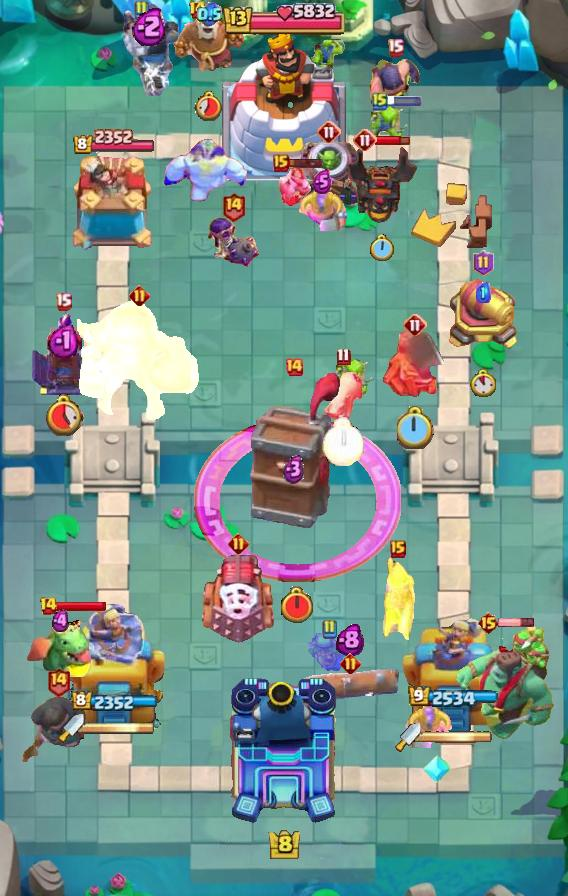archer-evolution: (345, 143, 419, 225)
bar: (59, 595, 169, 731), (402, 615, 507, 731)
bomb-tower: (379, 555, 417, 653)
clock: (221, 0, 347, 40)
dart-goblin: (247, 371, 341, 531)
electro-giant: (77, 300, 201, 424)
electro-spirit: (132, 6, 168, 46), (48, 322, 78, 358), (336, 624, 364, 657), (283, 454, 305, 484), (197, 1, 222, 27), (312, 169, 332, 195), (51, 609, 69, 633), (477, 281, 492, 303)
electro-wizard: (26, 607, 94, 677)
elixir: (322, 418, 364, 467), (43, 393, 84, 436), (397, 407, 434, 450), (279, 586, 315, 625), (194, 91, 224, 122), (470, 369, 496, 397), (369, 234, 394, 263)
elixir-collector: (170, 0, 248, 76)
emote: (55, 600, 107, 612), (287, 157, 324, 169), (375, 134, 410, 146), (498, 616, 535, 627), (385, 96, 423, 106)
giant: (321, 368, 365, 424)
giant-snowball: (308, 633, 350, 673)
goblin-ball: (205, 214, 261, 270)
goblin-cage: (297, 138, 361, 208)
goblin-giant: (403, 705, 453, 748), (297, 189, 346, 231)
golem: (199, 551, 277, 645)
ice-spirit-evolution-symbol: (29, 311, 97, 397)
inferno-dragon: (120, 0, 180, 96)
king-tower: (222, 31, 346, 181), (228, 676, 340, 826)
king-tower-bar: (421, 730, 493, 744), (84, 721, 154, 735)
knight-evolution: (194, 418, 402, 582)
lava-hound: (453, 623, 557, 745)
minion: (299, 667, 401, 703)
monk: (368, 57, 422, 127)
pad_2: (422, 754, 452, 784)
queen-tower: (68, 156, 160, 256)
rage: (161, 137, 249, 205)
royal-delivery: (273, 165, 313, 207)
royal-giant-evolution: (381, 331, 449, 401)
royal-hog: (19, 694, 97, 766)
royal-recruit: (444, 276, 522, 352)
selected: (72, 128, 156, 155), (409, 686, 500, 710), (70, 691, 157, 713)
text: (222, 191, 247, 222), (46, 667, 71, 698), (317, 120, 341, 144), (353, 128, 377, 152), (403, 313, 427, 337), (477, 611, 500, 635), (474, 250, 495, 276), (130, 285, 151, 307), (227, 533, 248, 555), (339, 653, 360, 674), (284, 357, 304, 377), (38, 596, 58, 616), (189, 0, 208, 20), (387, 38, 405, 57), (55, 293, 73, 312), (133, 0, 149, 20), (372, 91, 388, 111), (321, 619, 337, 639), (273, 154, 289, 172), (390, 540, 406, 558), (337, 346, 351, 365)
zap: (369, 106, 411, 148), (334, 359, 376, 401), (310, 34, 346, 74)
